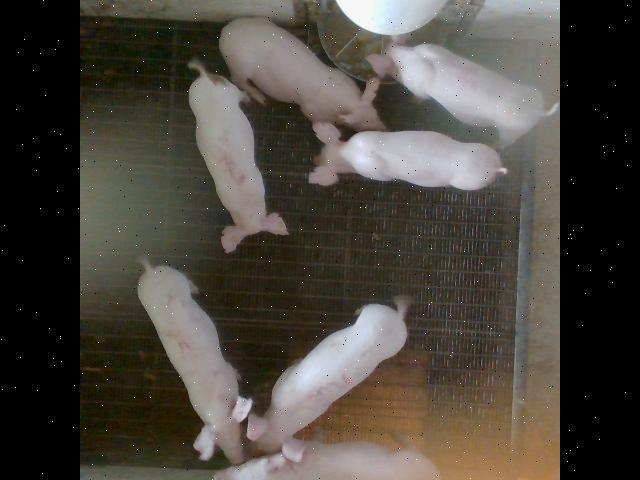pig-3: (248, 296, 408, 450)
pig-4: (366, 34, 558, 144)
pig-5: (189, 59, 287, 251)
